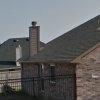Chimney: (20, 14, 44, 60)
